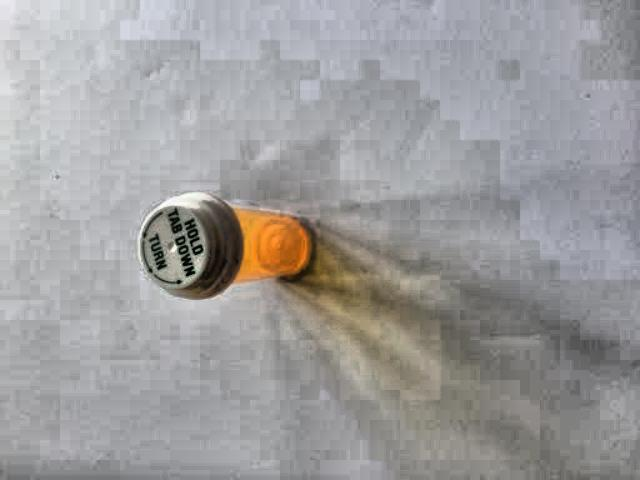Plastic: (112, 178, 333, 319)
